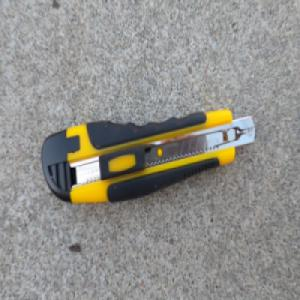Cutter: (40, 106, 256, 205)
